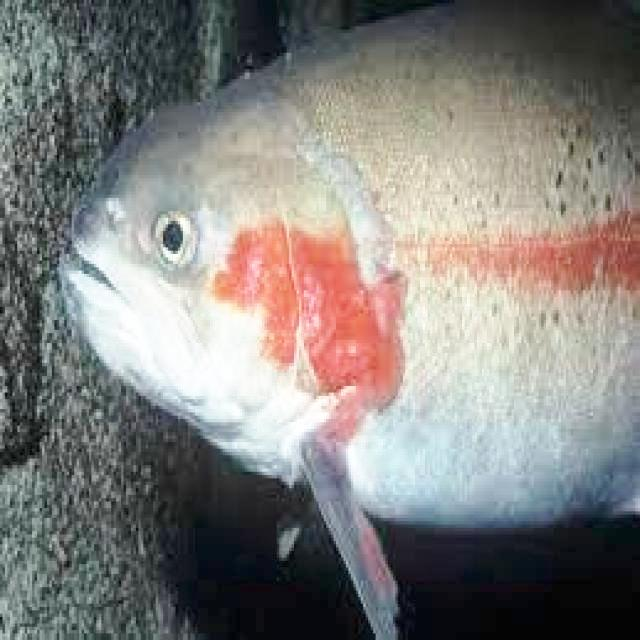Epizootic Ulcerative Syndrome -EUS-: (61, 2, 639, 639), (65, 11, 639, 524)
